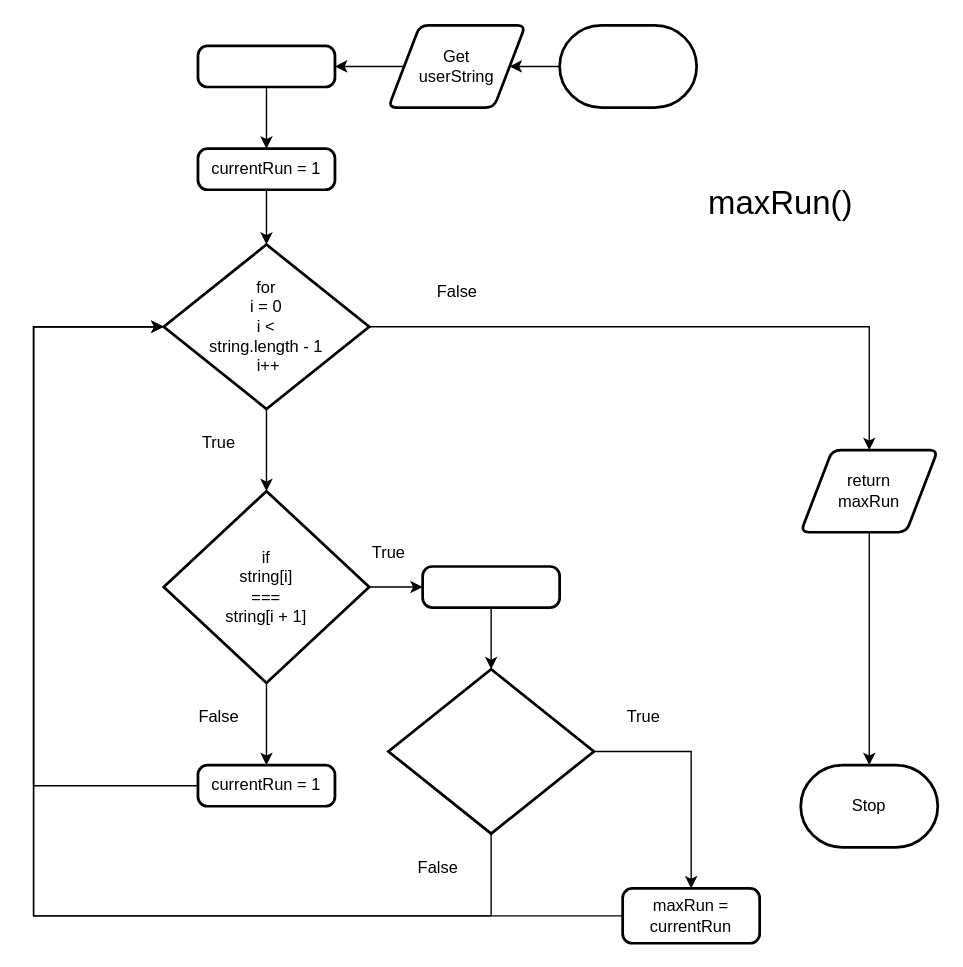
Image size: 963x967. Some labels were removed from this diagram. The box of each missing label's shape, as (x1, y1, x2, y2) in pixels:
currentRun++: (421, 564, 560, 608)
if currentRun > maxRun: (386, 667, 595, 834)
maxRun = 1: (196, 44, 336, 88)
Start: (558, 23, 697, 108)
